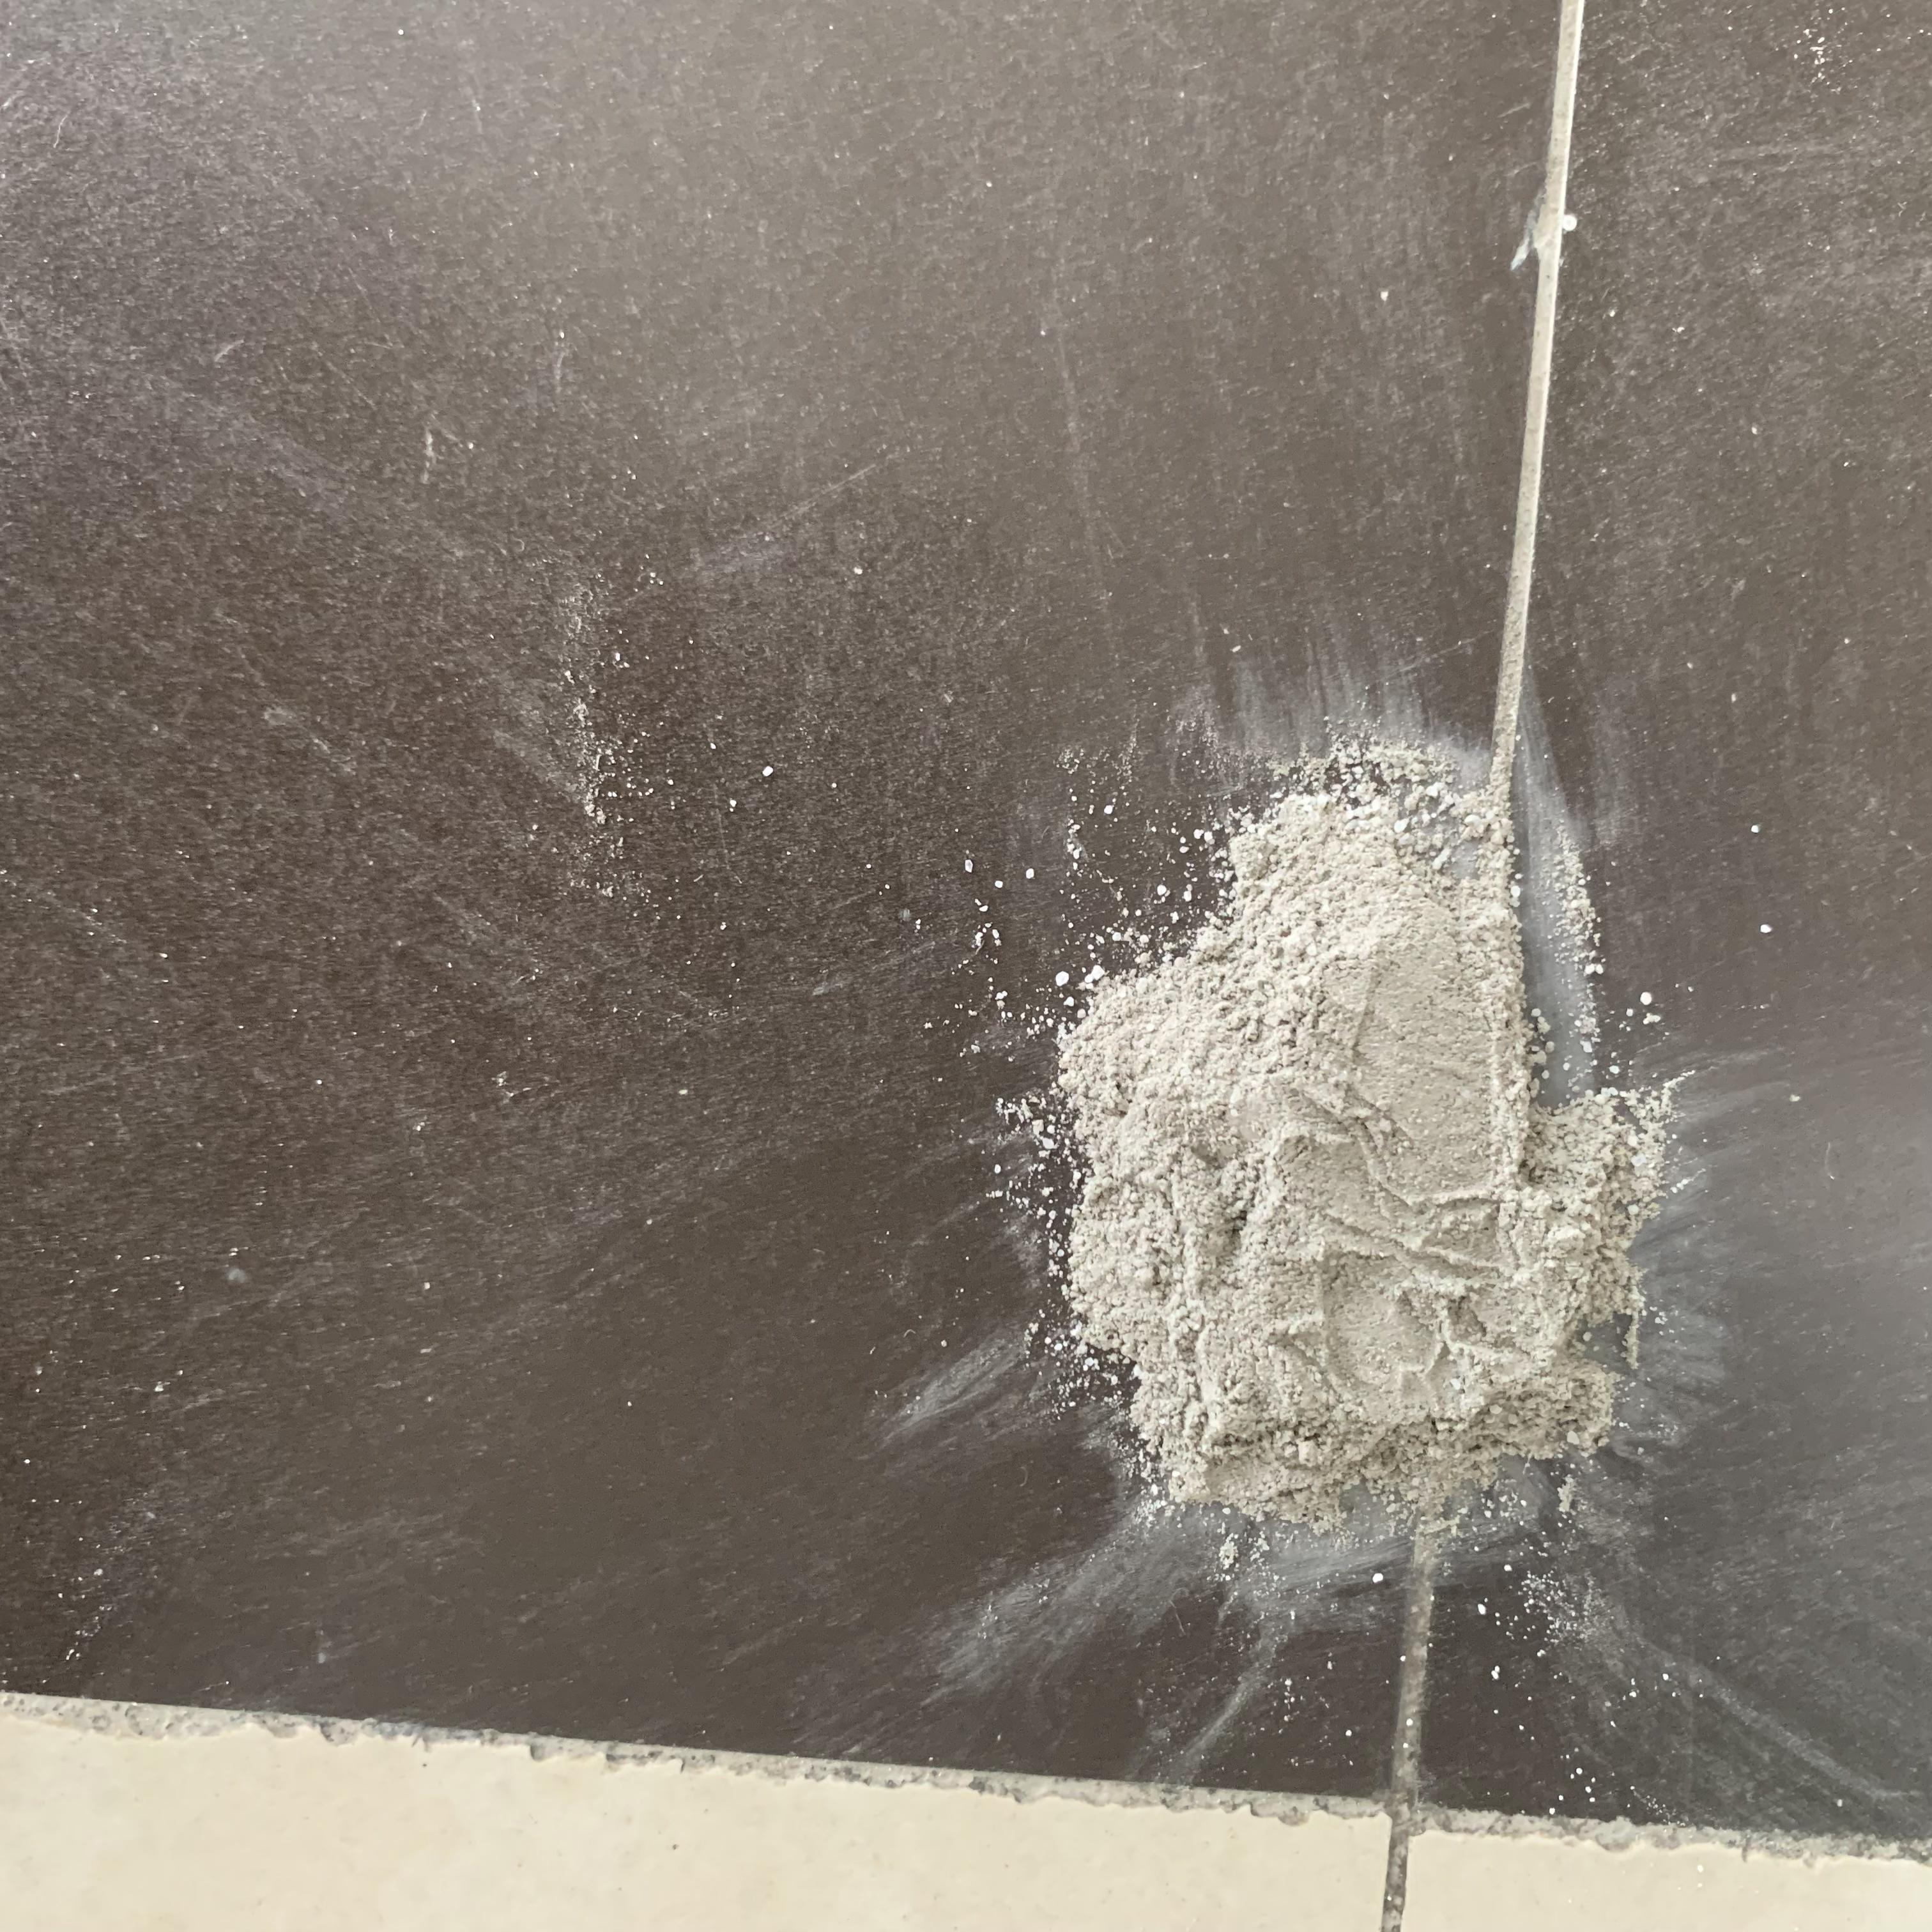ash pile: (897, 616, 1783, 1769)
